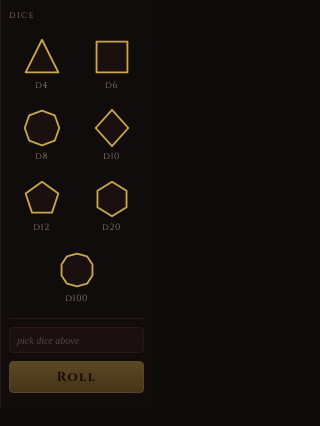
Test: DiceTray — AC-001 queue accumulation › enables Roll after clicking a die (AC-001)
Click the button titled "d20" at (112, 206), box 79,173 -> 144,239
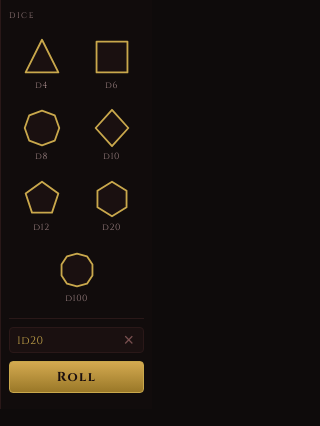
expect the button "Roll" is enabled: met, box 9,361 -> 144,393
